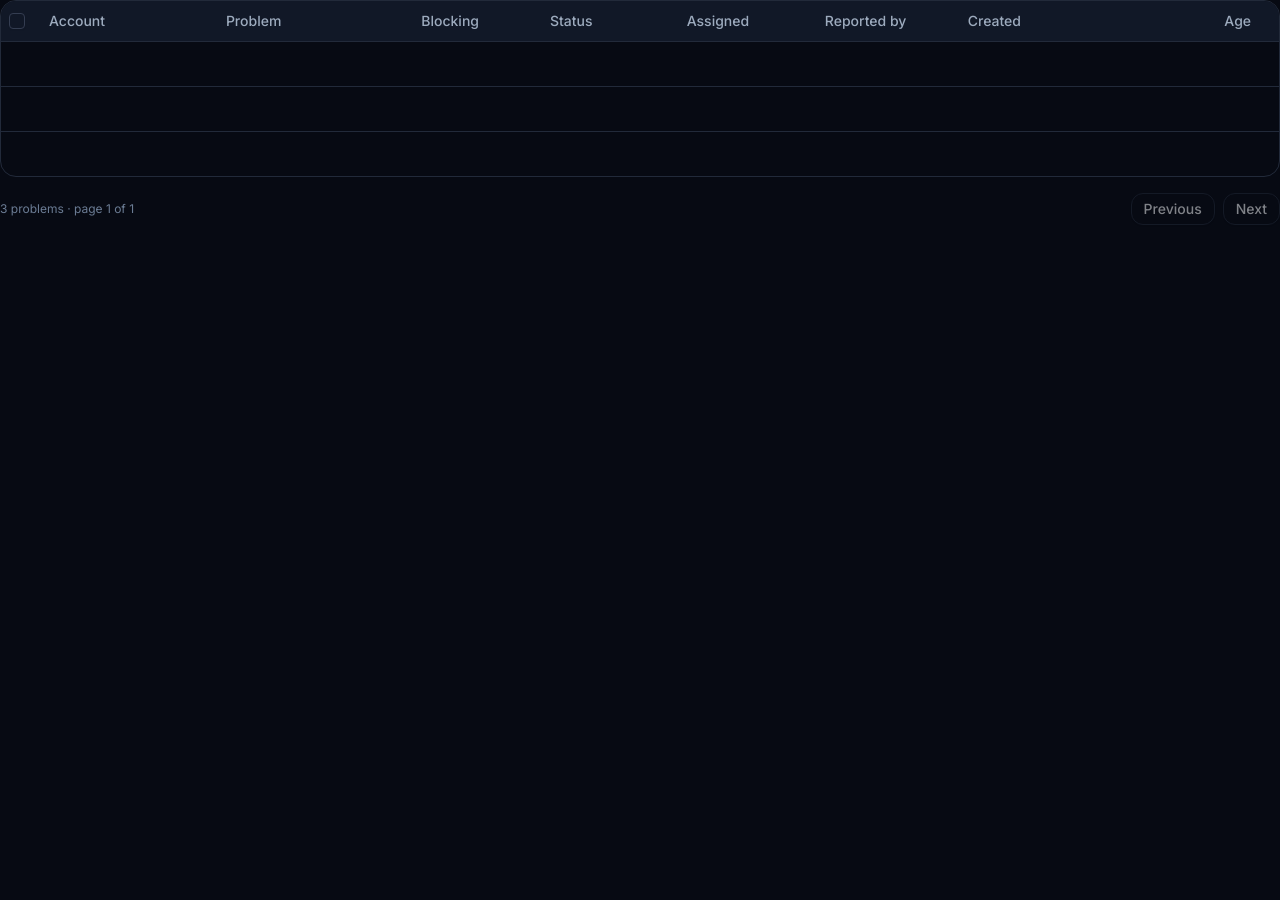
the toolbar › says a mixed selection's finished problems will be skipped, not reopened
Click the checkbox named "Select all problems on this page". click: (17, 21)
box: [9,13,25,29]
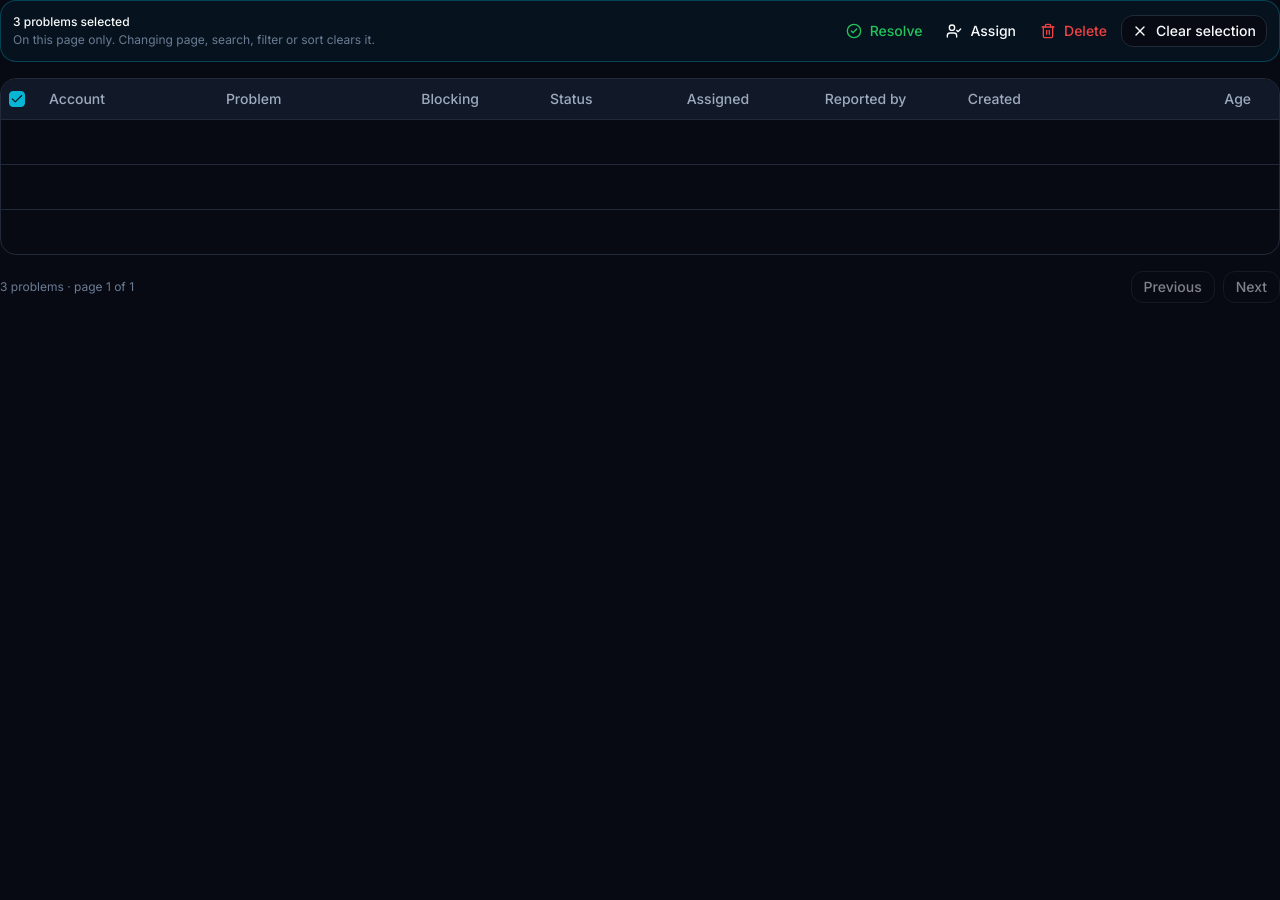
Click the button "Resolve". click: (884, 31)
box: [836,15,932,47]
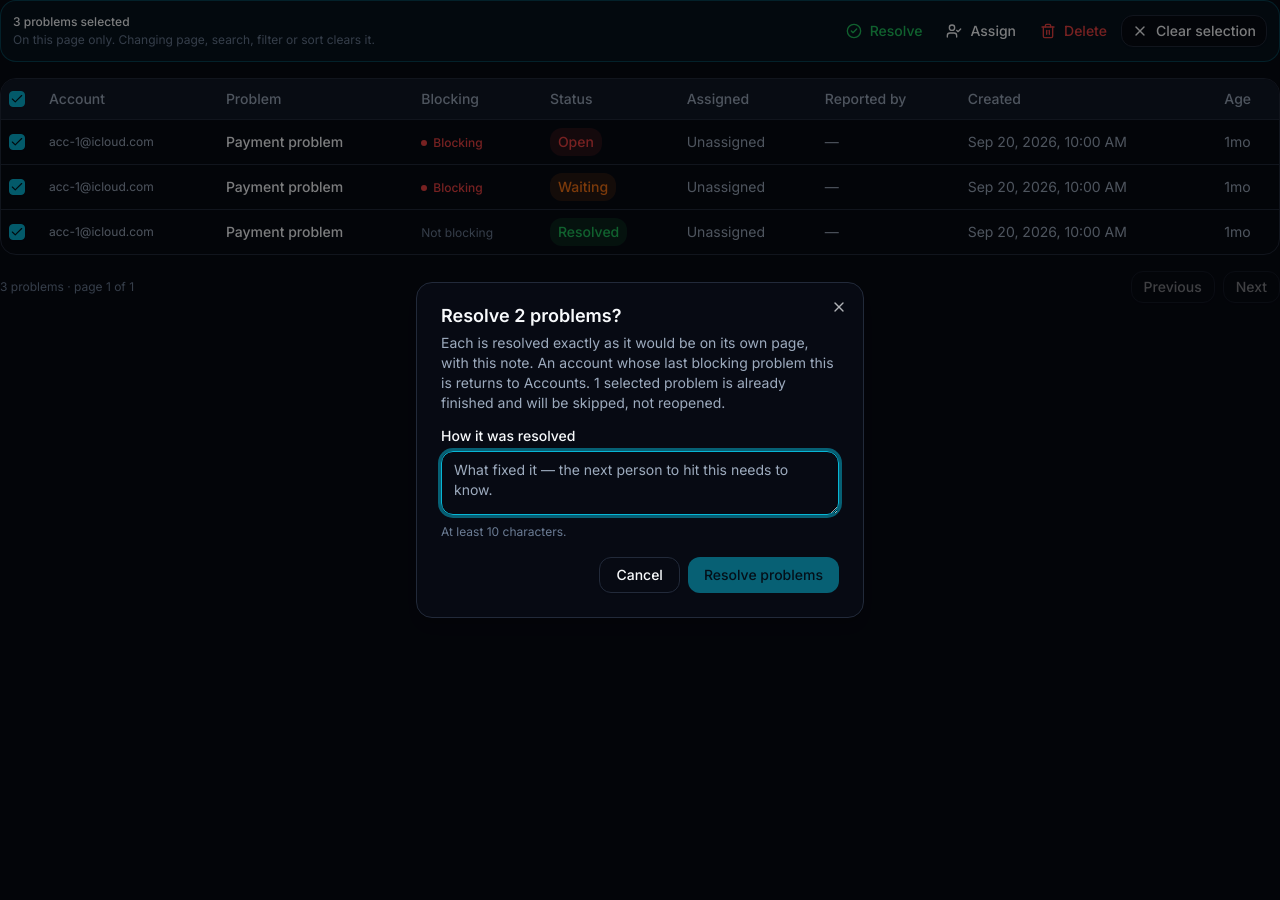
Now the dialog shows "1 selected problem is already finished and will be skipped, not reopened.", box [441,374,786,411]
